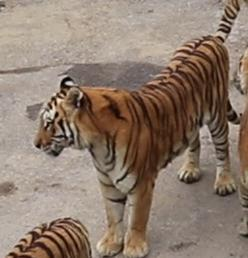tiger: (34, 0, 239, 257)
